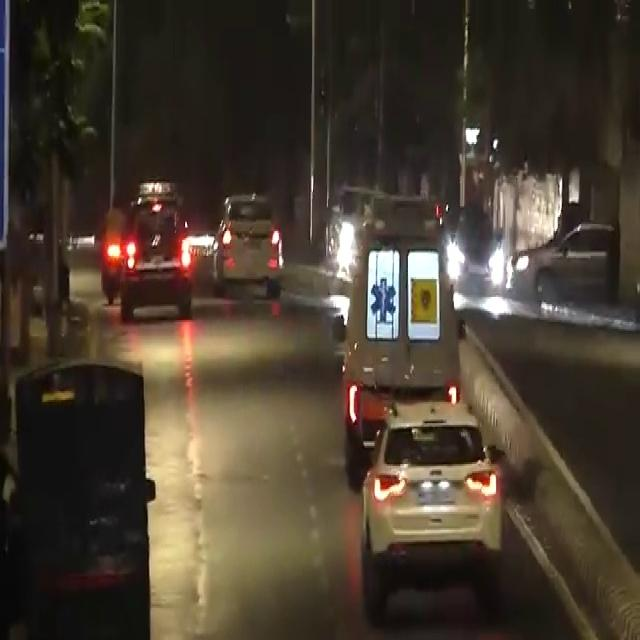ambulance: (355, 143, 457, 451)
